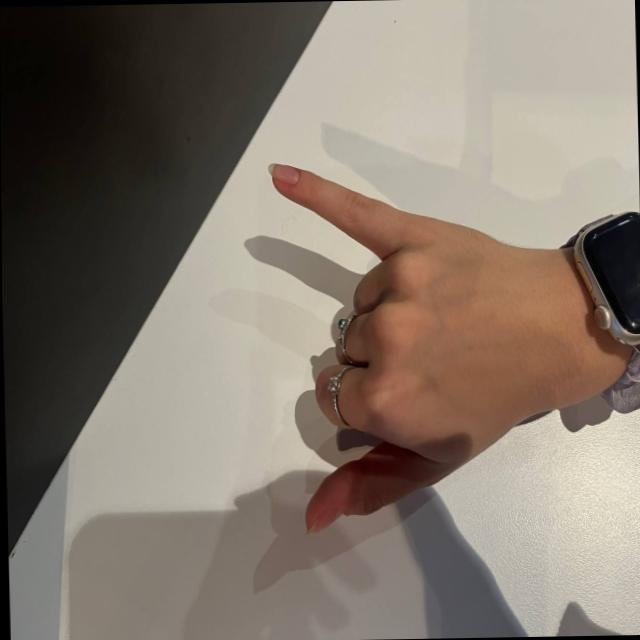u: (247, 128, 530, 566)
